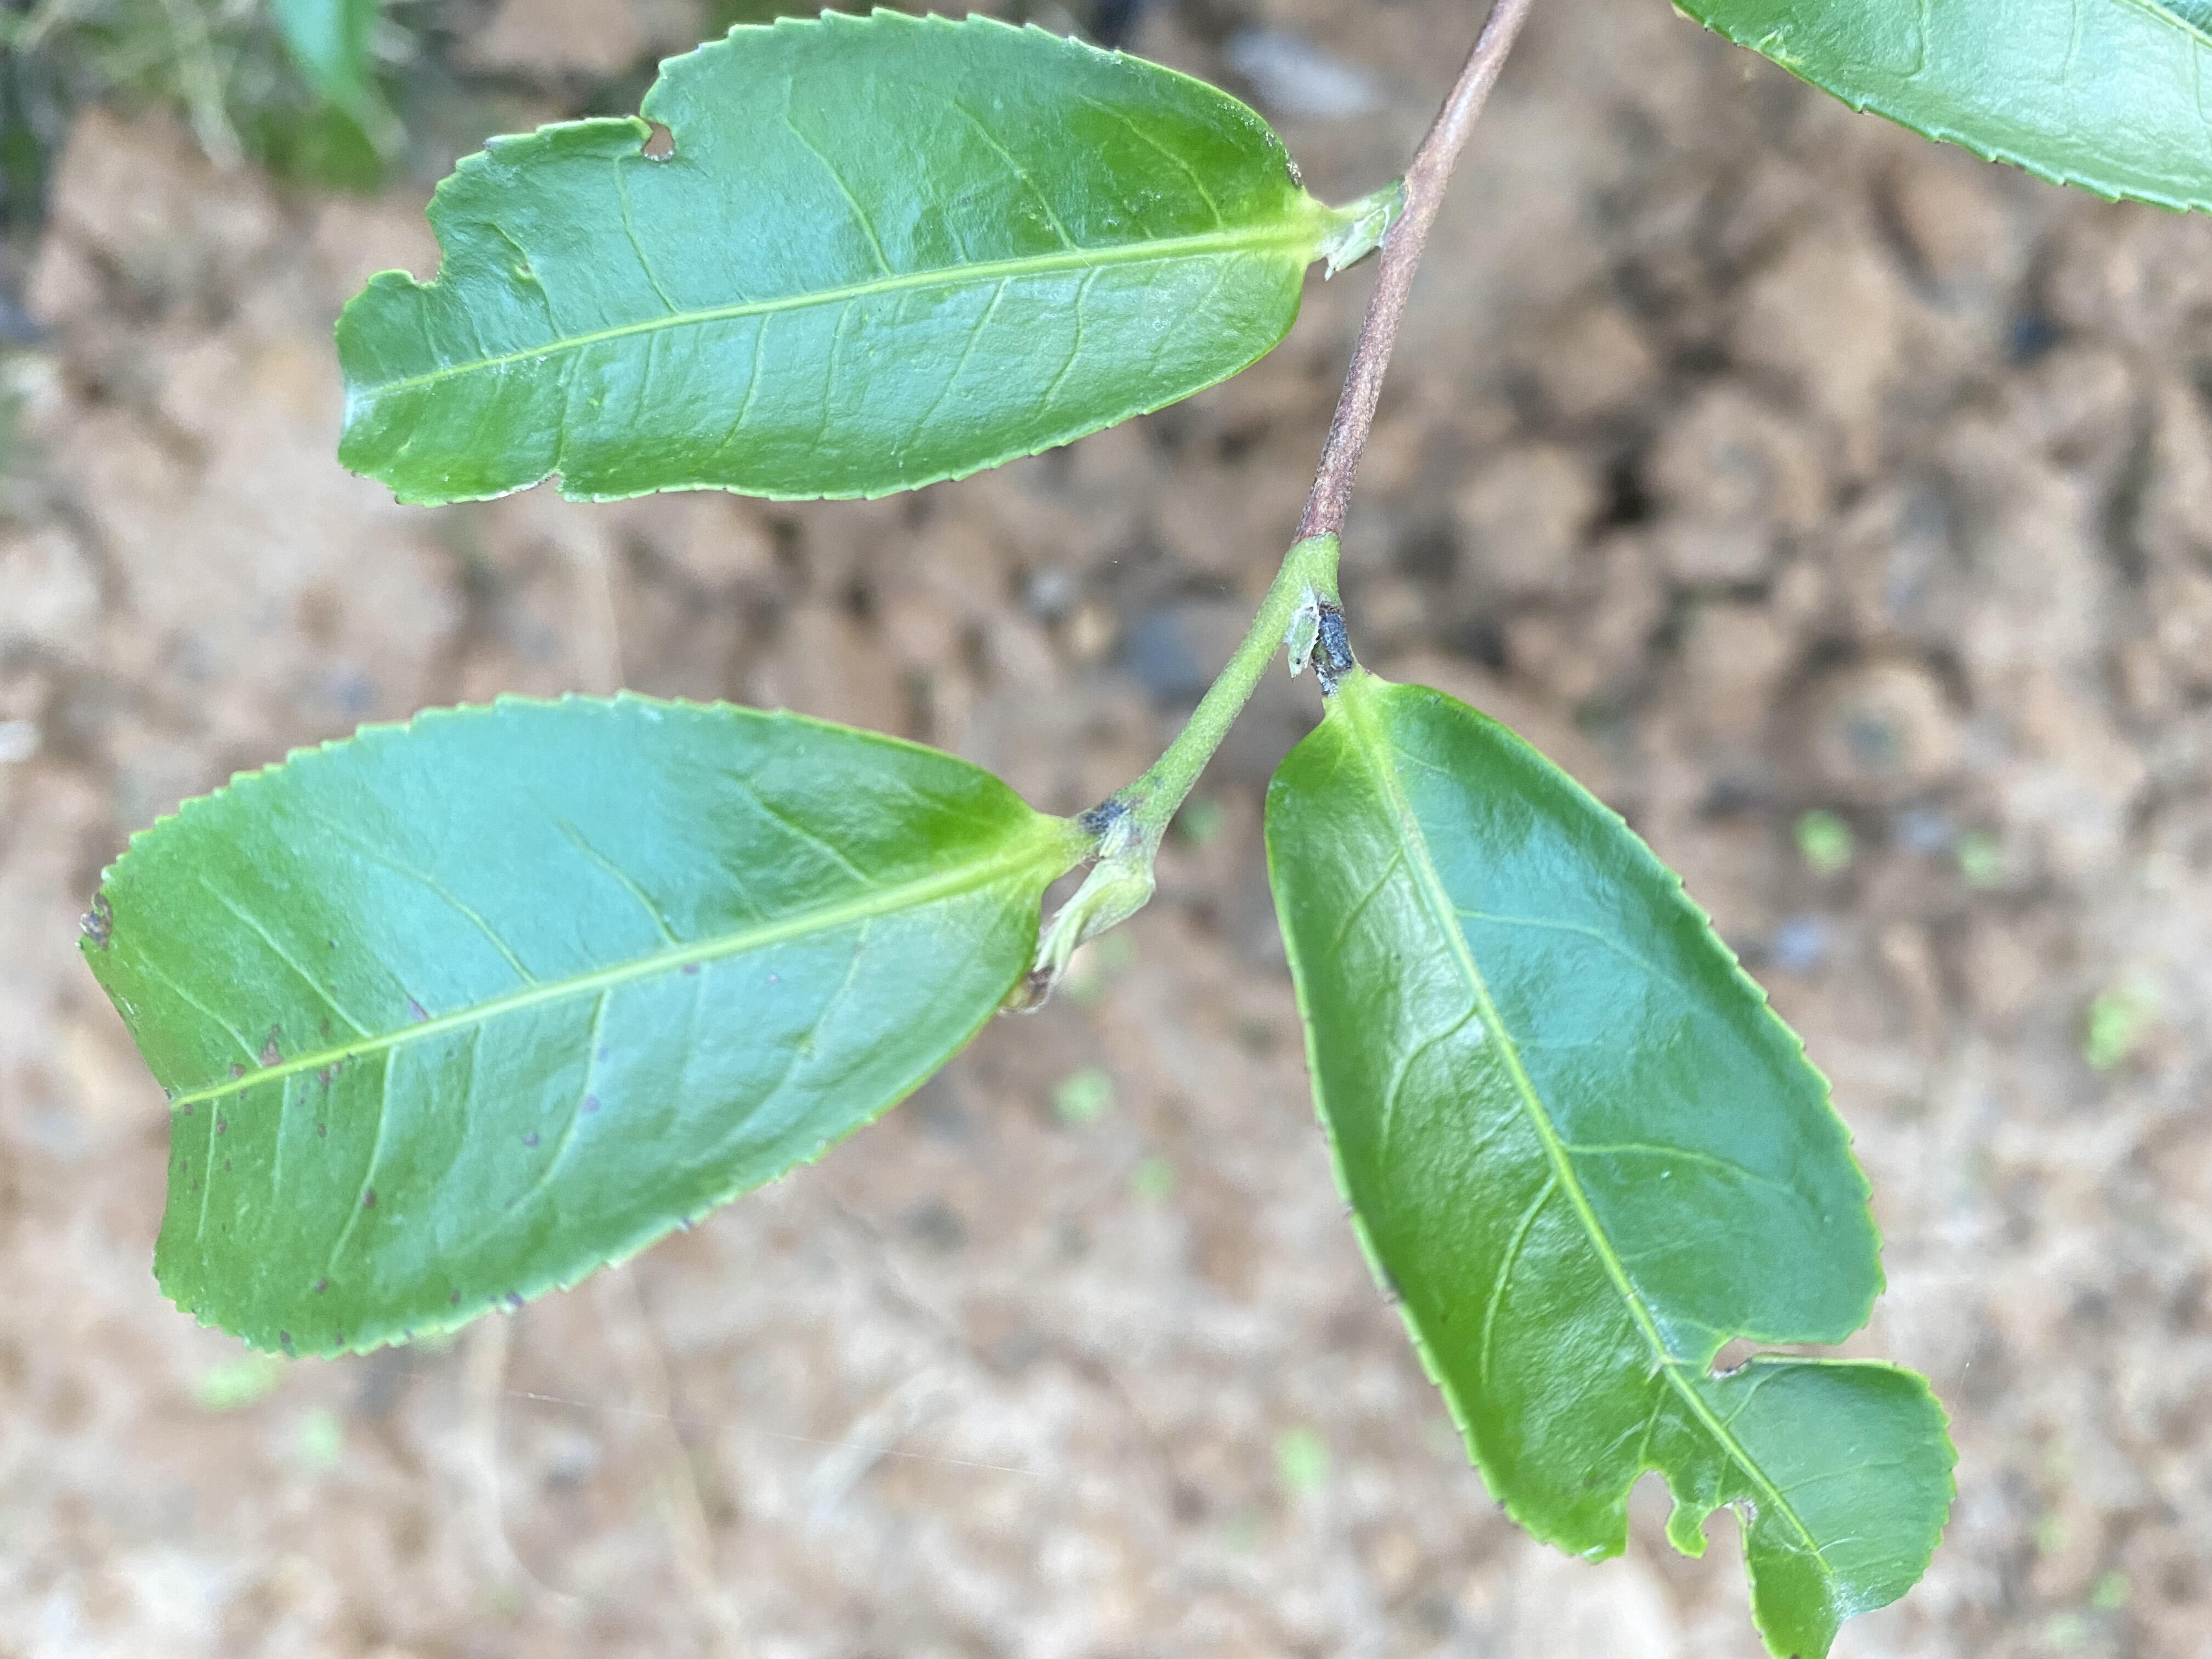chihuo_high: (1263, 674, 1956, 1657), (334, 7, 1322, 509)
tanju_low: (77, 688, 1055, 1364)
